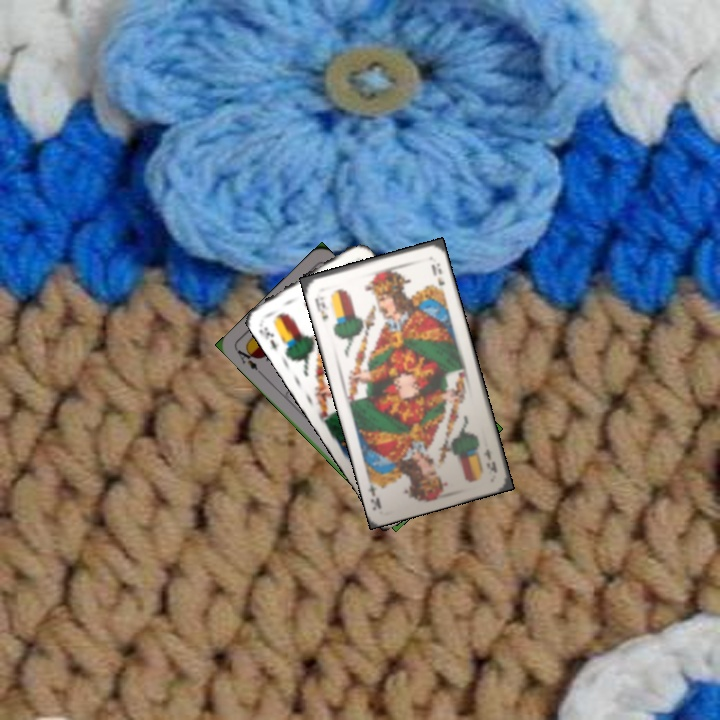EA: (232, 343, 265, 377)
EK: (255, 322, 280, 352), (480, 444, 500, 475), (311, 294, 331, 324)
